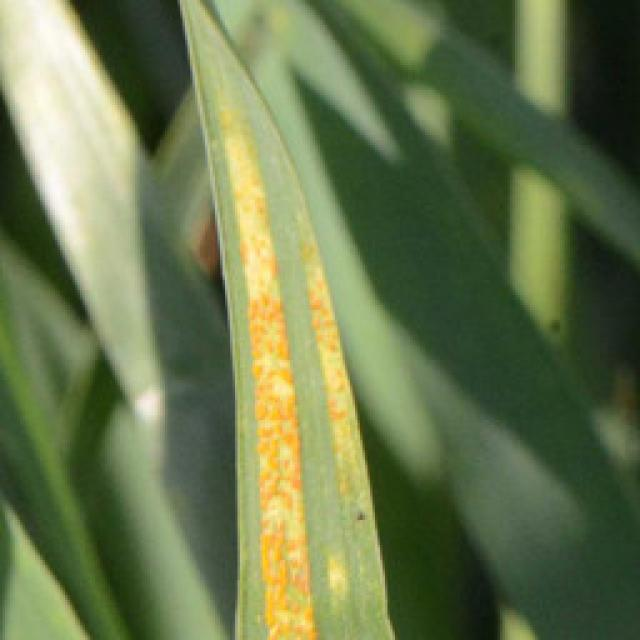wheat-yellowrust: (220, 96, 322, 640), (286, 151, 367, 520)
